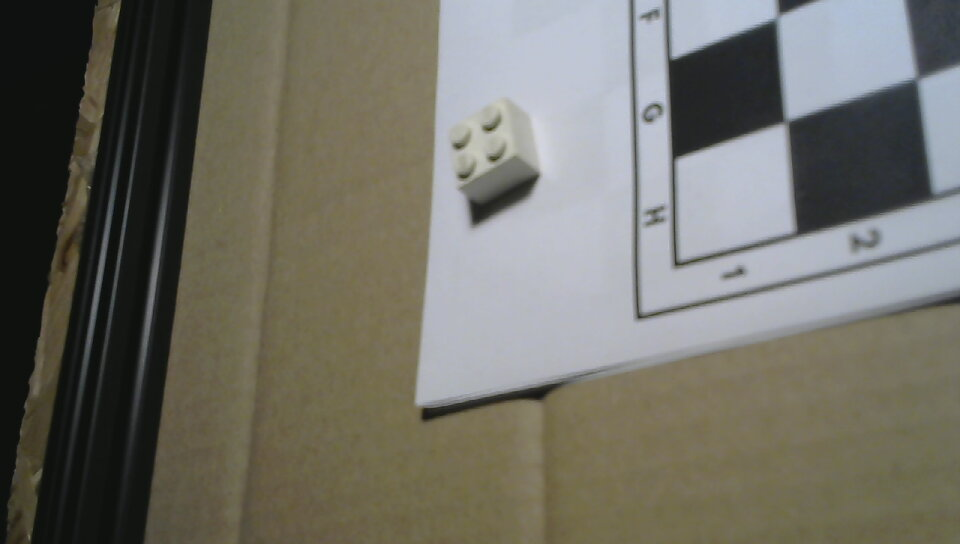wp: (442, 92, 551, 222)
